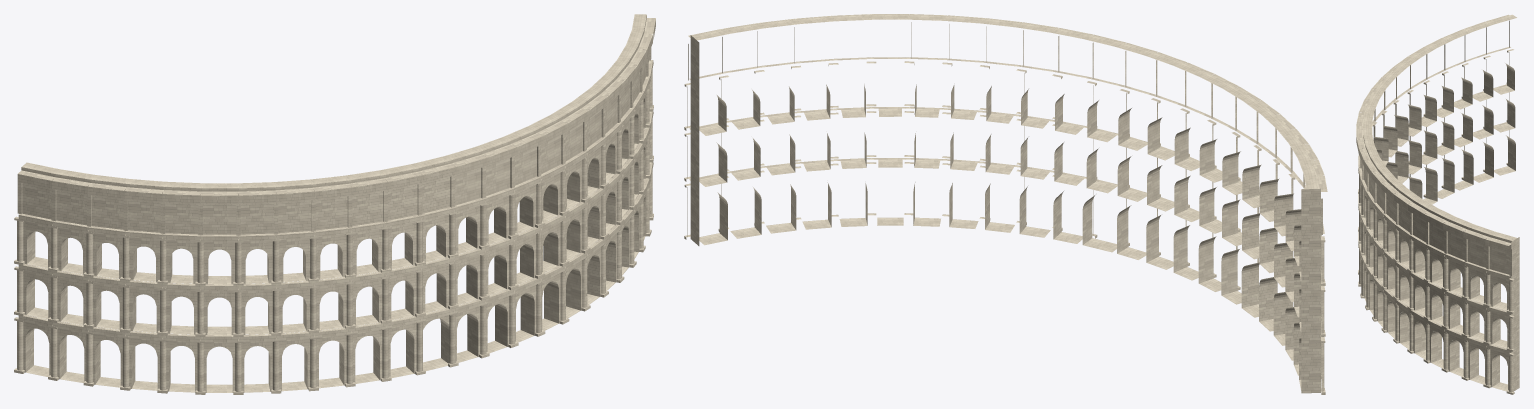
The model's file is SM_colo_wall.glb.
The picture shows the model from 3 angles, left to right: view 1: azimuth 30°, elevation 25°; view 2: azimuth 150°, elevation 25°; view 3: azimuth 270°, elevation 25°; orthographic projection. The views are drawn at different scales.
Visible parts, largest first — view 1: SM_colo_wall; view 2: SM_colo_wall; view 3: SM_colo_wall.
Boxes of the visible parts, x1=… form: SM_colo_wall: x1=14, y1=14, x2=655, y2=394; SM_colo_wall: x1=684, y1=14, x2=1327, y2=394; SM_colo_wall: x1=1356, y1=14, x2=1519, y2=394.
Size of the model in its own units: 121 by 36.9 by 36.1.
Materials: 1 (1 with a texture image).
